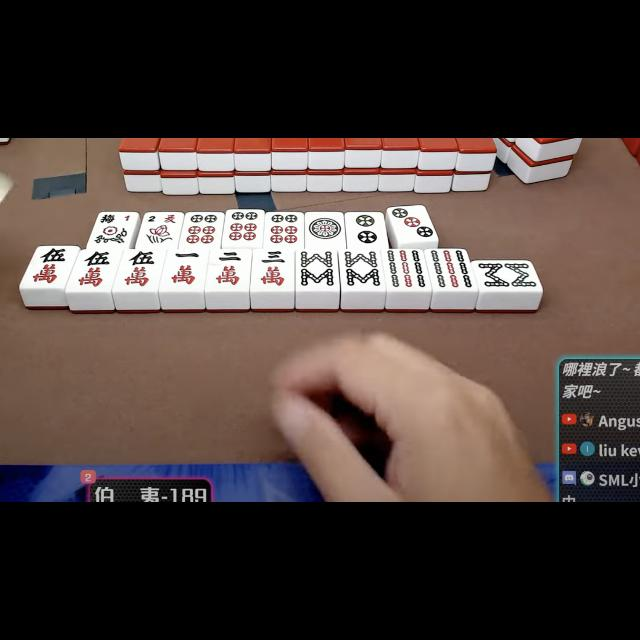b8: (477, 260, 537, 292), (296, 248, 338, 290), (342, 249, 382, 291)
b9: (429, 248, 473, 290), (384, 248, 426, 290)
c1: (164, 250, 206, 290)
c2: (208, 248, 250, 290)
c3: (254, 248, 292, 290)
c5: (24, 246, 72, 288), (72, 249, 116, 291), (118, 249, 162, 291)
d1: (306, 212, 344, 245)
d2: (346, 213, 386, 247)
d3: (391, 206, 434, 240)
d6: (223, 210, 263, 247), (182, 212, 220, 248), (266, 212, 302, 248)
f1: (96, 212, 136, 225)
s2: (144, 212, 180, 225)
